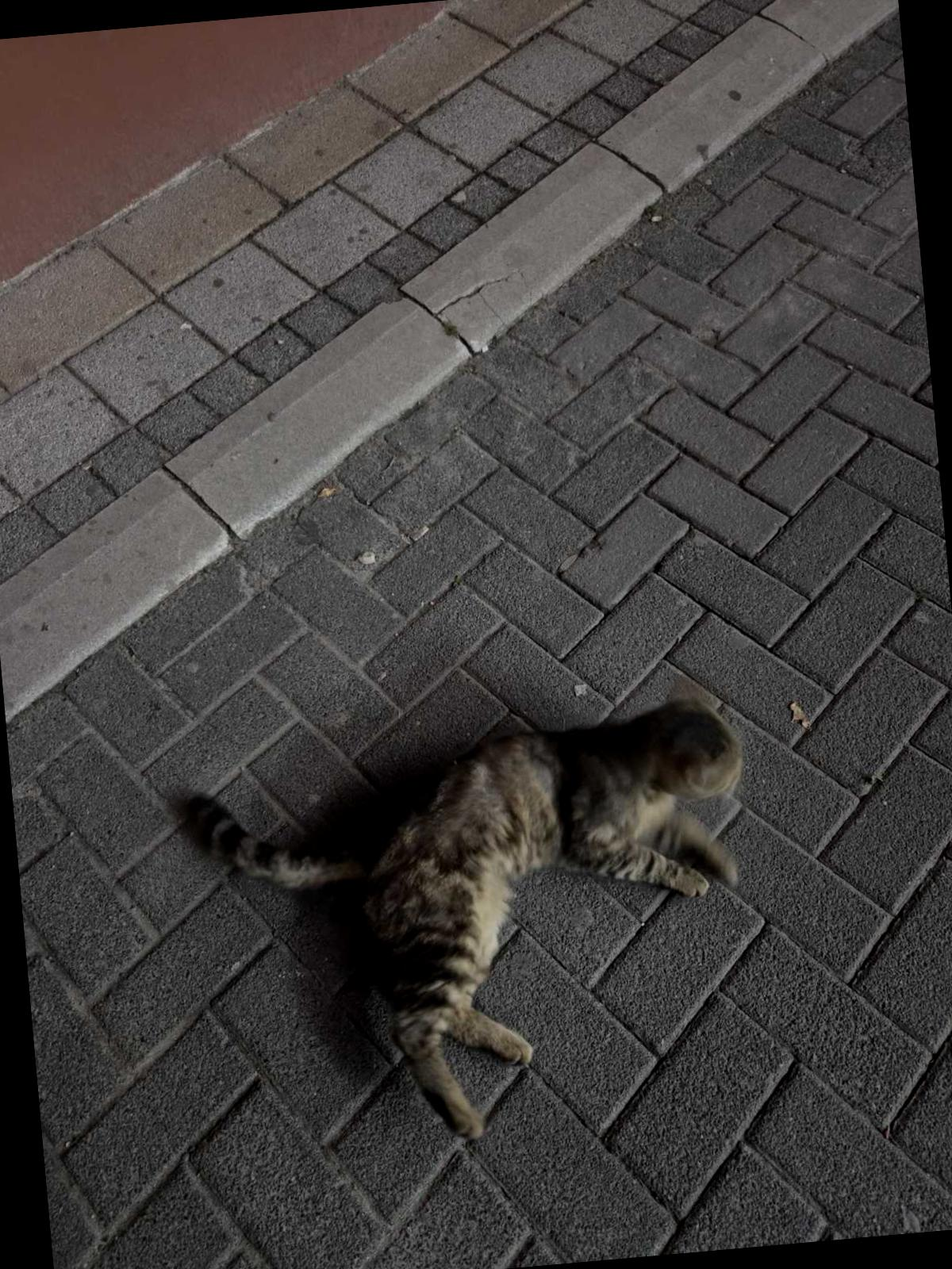macka: (159, 660, 783, 1176)
